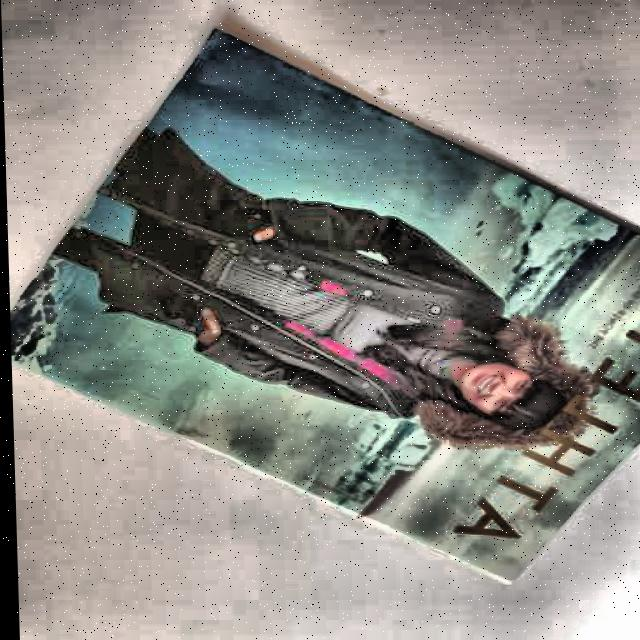paper: (1, 22, 640, 584)
